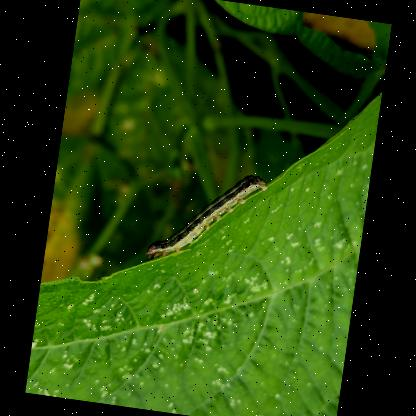Fall Armyworm Larvae: (139, 155, 274, 281)
